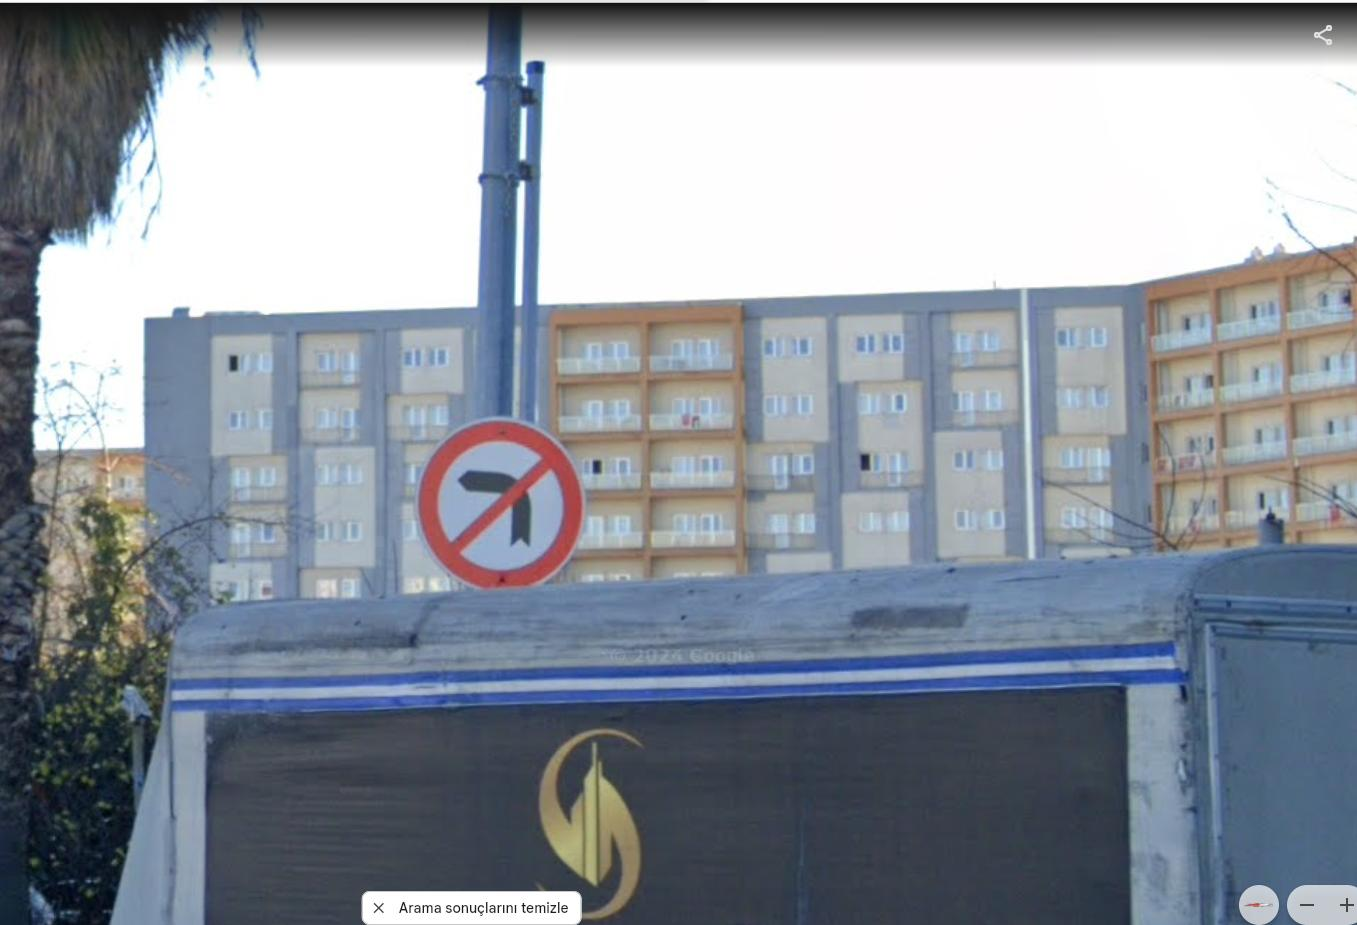leftturnsareforbidden: (428, 423, 575, 585)
